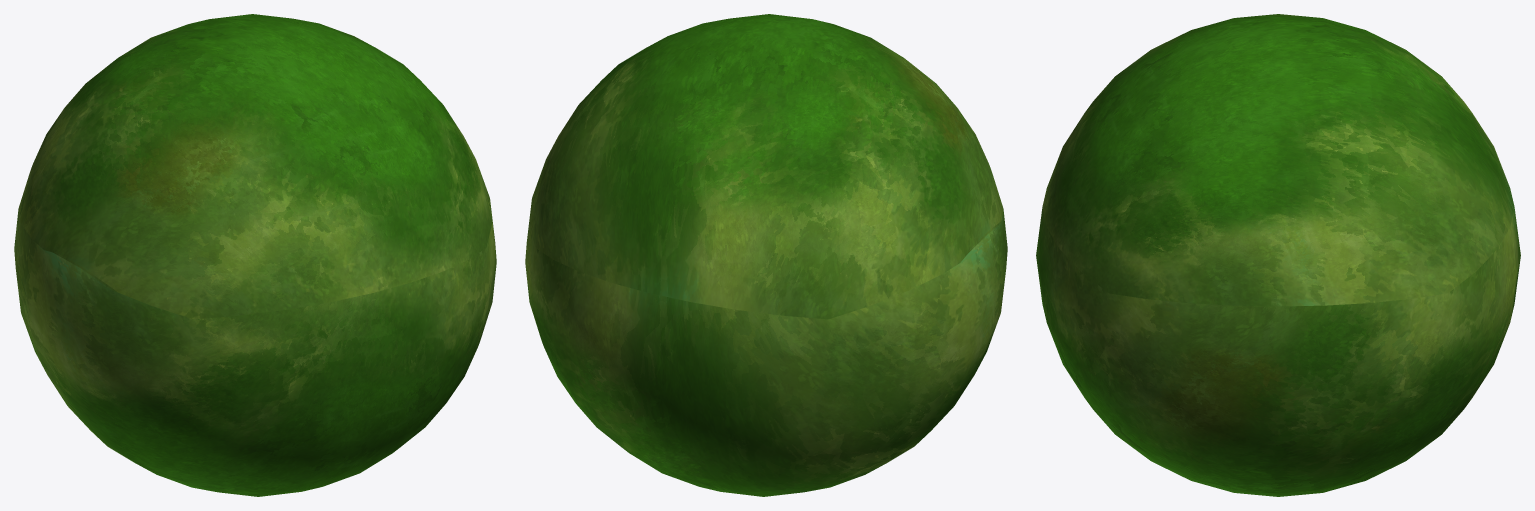
File: Planeta.fbx
3 views of the same model, side by side, from view 1: azimuth 30°, elevation 25°; view 2: azimuth 150°, elevation 25°; view 3: azimuth 270°, elevation 25° (orthographic).
Parts seen in each view (by area): view 1: Planeta; view 2: Planeta; view 3: Planeta.
Part boxes in pixels (x1,y1,x2,y2): Planeta: [14, 14, 496, 496]; Planeta: [525, 14, 1007, 496]; Planeta: [1036, 14, 1520, 496].
Size of the model in its own units: 2146 by 2146 by 2146.
